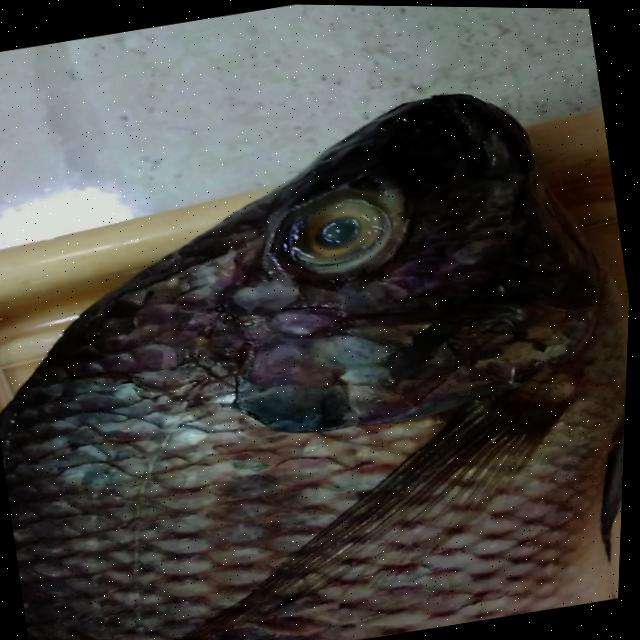Non-Fresh: (27, 261, 632, 622), (250, 168, 434, 298)
